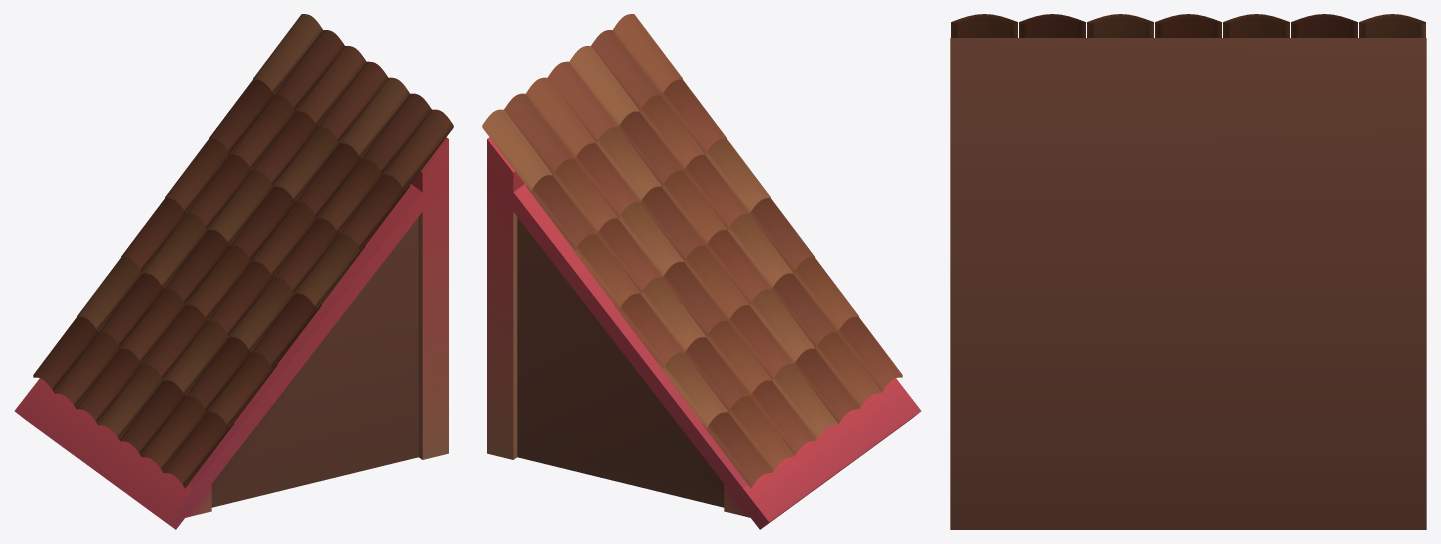
Rendered from fw_roof_steep.glb.
The picture shows the model from 3 angles, left to right: view 1: azimuth 30°, elevation 25°; view 2: azimuth 150°, elevation 25°; view 3: azimuth 270°, elevation 25°; orthographic projection. The views are drawn at different scales.
Parts seen in each view (by area): view 1: body; view 2: body; view 3: body.
Boxes of the visible parts, bbox=[...] form: body: bbox=[14, 14, 453, 529]; body: bbox=[482, 14, 921, 529]; body: bbox=[950, 14, 1426, 529].
Bounding box in the file's own units: 2.83 × 3.22 × 2.6.
